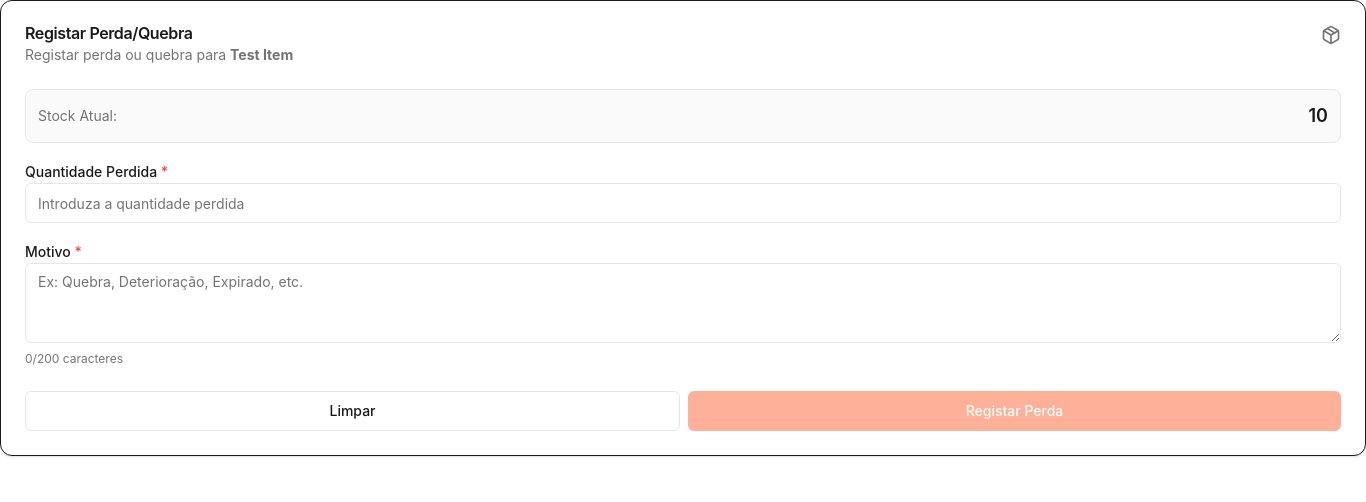
Test: LossRecordForm › validates positive integer quantity
This screenshot has width=1366, height=502.
Test negative number
Type "-5" into the number field labelled "Quantidade Perdida *". click: x=683, y=203
box: [25,183,1341,223]
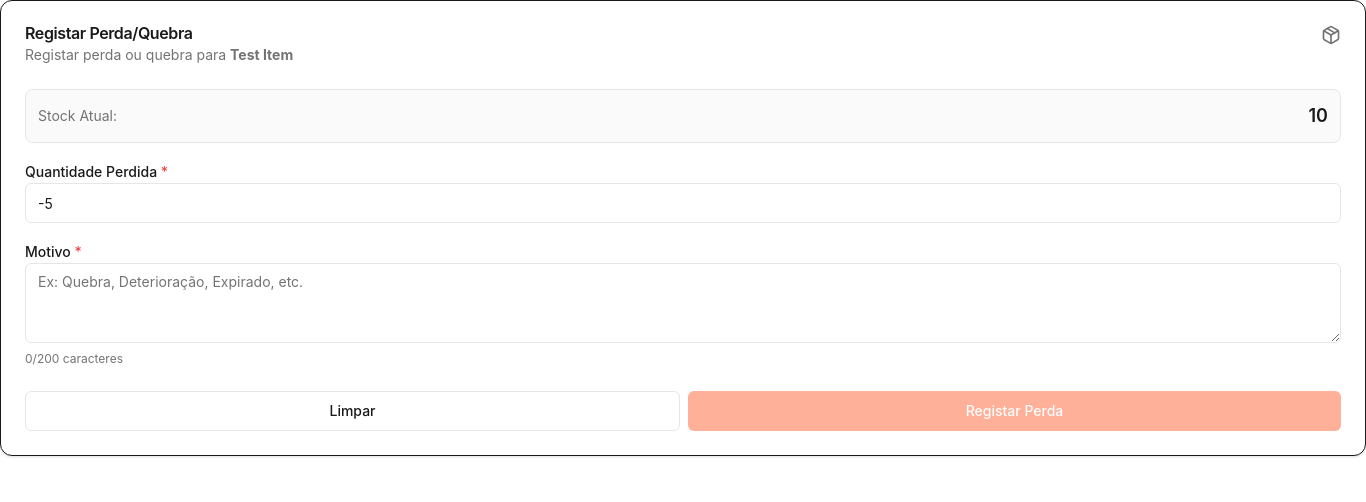
Type "Test reason" into the text box labelled "Motivo *". click: x=683, y=303
box: [25,263,1341,343]
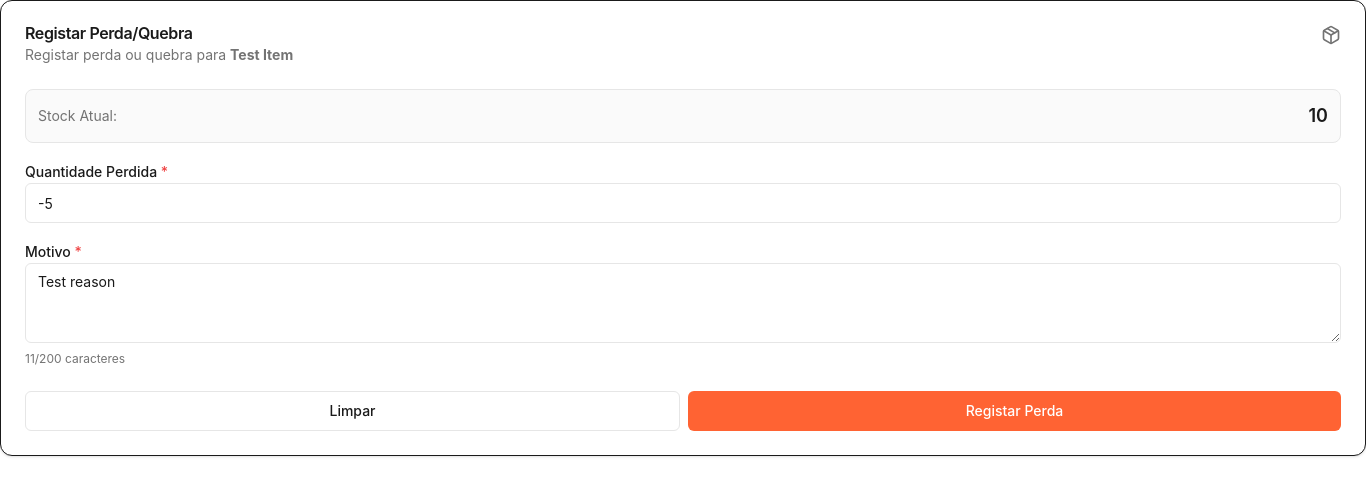
Submit the form labelled "Quantidade Perdida"
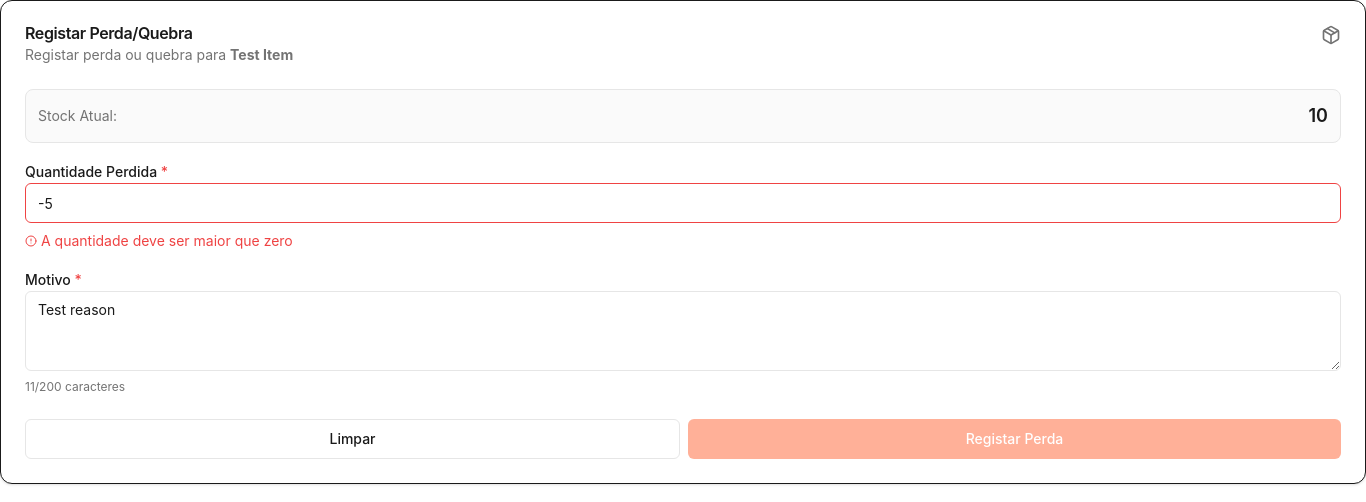
expect the text "A quantidade deve ser maior que zero" is shown: met, box [25,232,293,249]
Test zero
Replace the text in the number field labelled "Quantidade Perdida *" with "0". click: x=683, y=203
box: [25,183,1341,223]
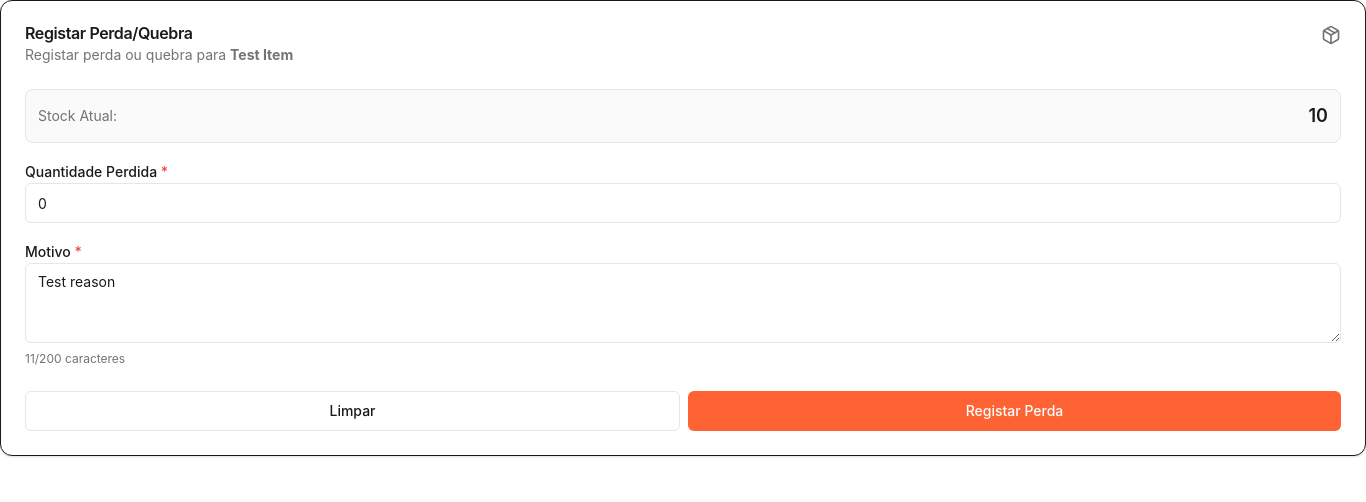
Submit the form labelled "Quantidade Perdida"
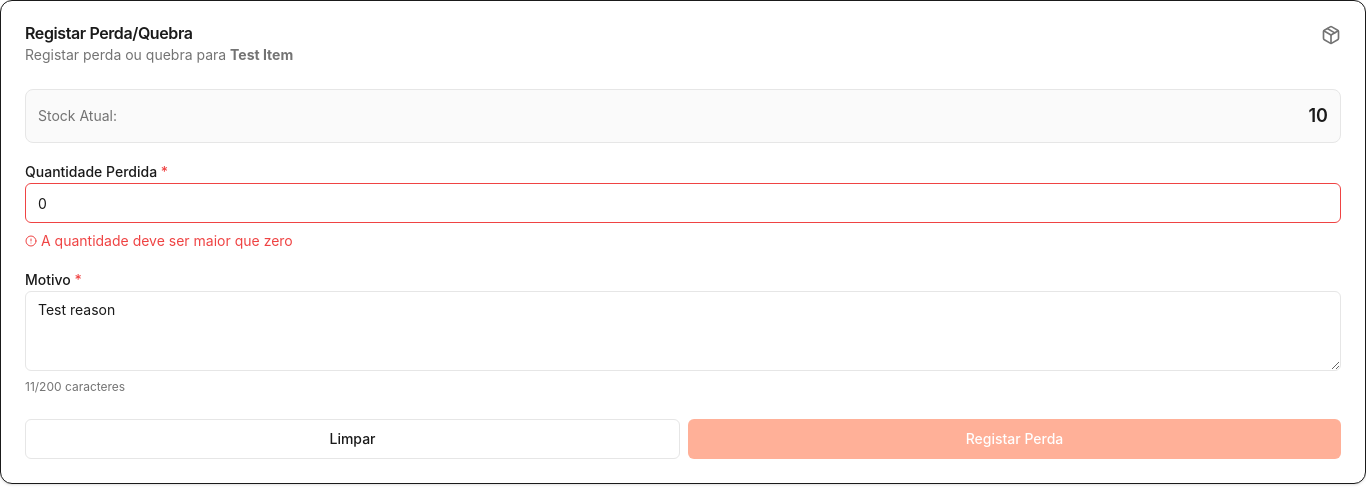
expect the text "A quantidade deve ser maior que zero" is shown: met, box [25,232,293,249]
